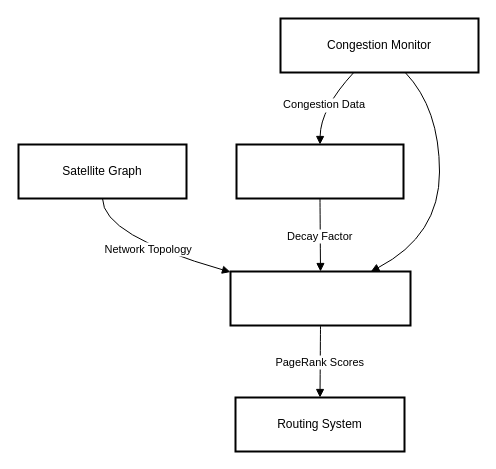
This 496x469 diagram has some shape labels left out. The box of each missing label's shape, as (x1, y1, x2, y2) in pixels:
Decay Adjuster: (235, 143, 404, 199)
PageRank Engine: (229, 270, 411, 326)
